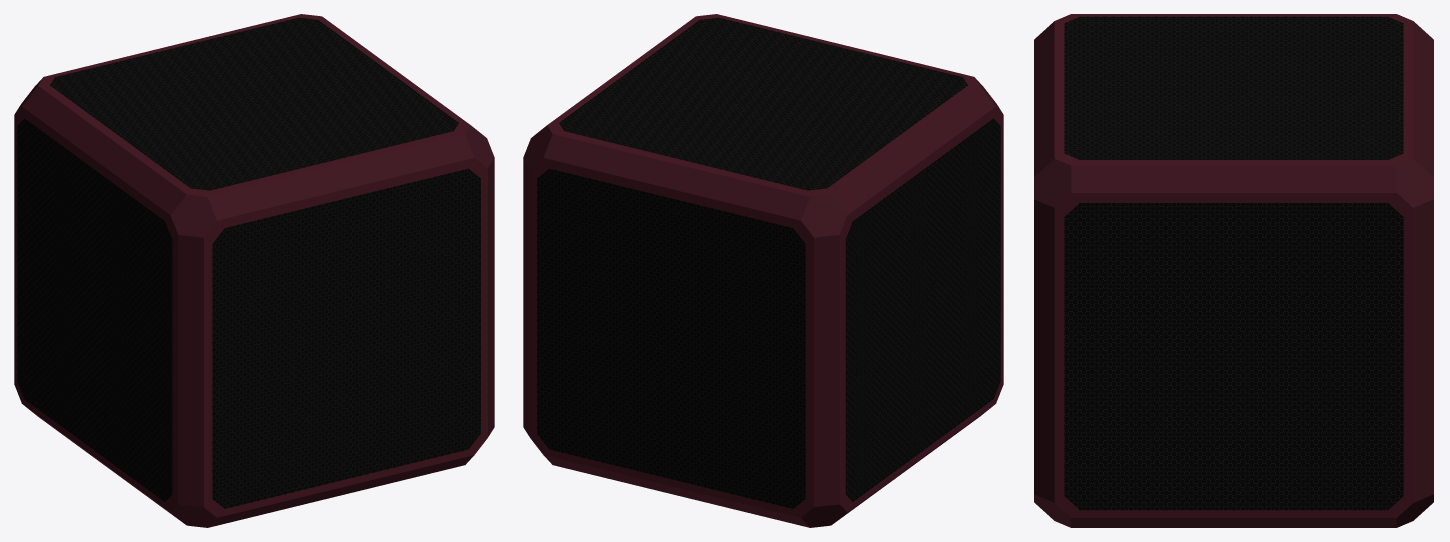
Rendered from Itr_Obj_Speaker4_04.FBX.
3 views of the same model, side by side, from view 1: azimuth 30°, elevation 25°; view 2: azimuth 150°, elevation 25°; view 3: azimuth 270°, elevation 25° (orthographic). The views are drawn at different scales.
Visible parts, largest first — view 1: Itr_Obj_Speaker4_04; view 2: Itr_Obj_Speaker4_04; view 3: Itr_Obj_Speaker4_04.
Boxes of the visible parts, <box> form: Itr_Obj_Speaker4_04: <box>14,14,494,527</box>; Itr_Obj_Speaker4_04: <box>523,14,1003,527</box>; Itr_Obj_Speaker4_04: <box>1034,14,1433,527</box>.
Bounding box in the file's own units: 10.52 × 10.46 × 10.52.
